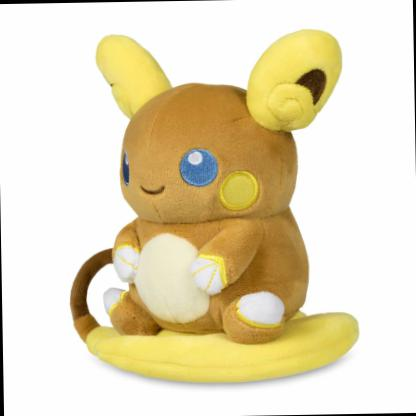Raichu: (1, 25, 416, 410)
